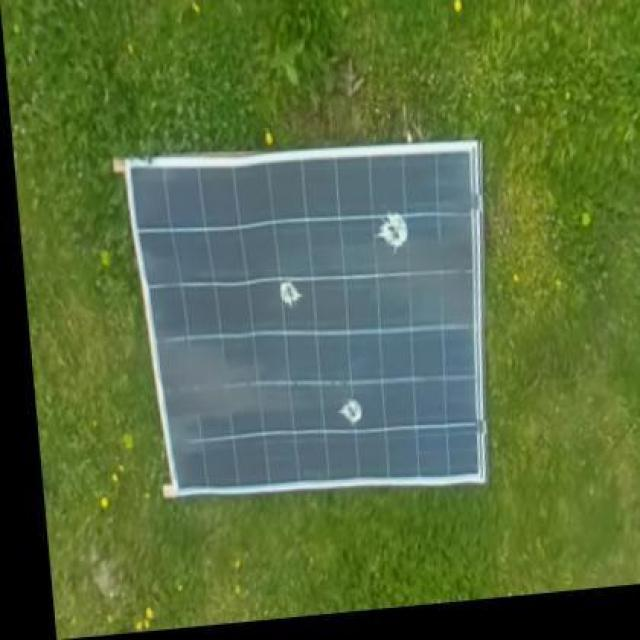soiled: (123, 138, 496, 500)
